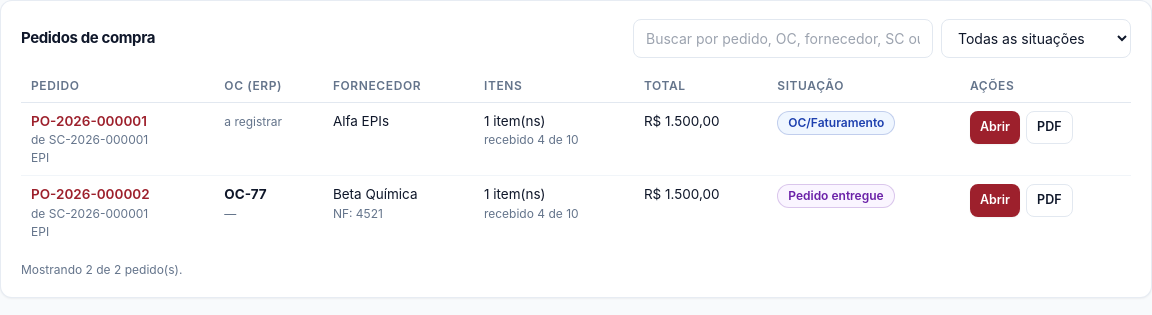
Test: <PedidosLista /> › a busca vai para o servidor, e não filtra a lista no navegador
Expected: the table with test id "tabela-pedidos" is shown, x1=21 y1=70 x2=1131 y2=248
Type "beta" into the field labelled "Buscar".
click(783, 38); type("beta")  # box x1=633 y1=19 x2=933 y2=58
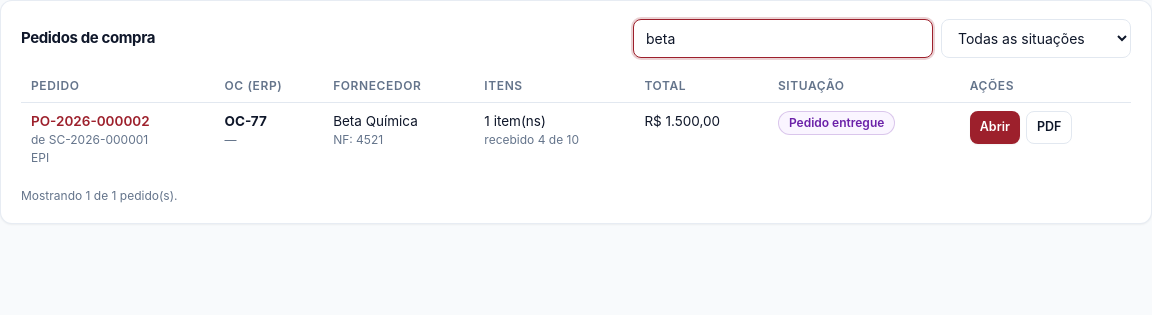
Expected: the link "PO-2026-000002" is shown, x1=31 y1=113 x2=150 y2=129
Expected: the link "PO-2026-000001" is gone
